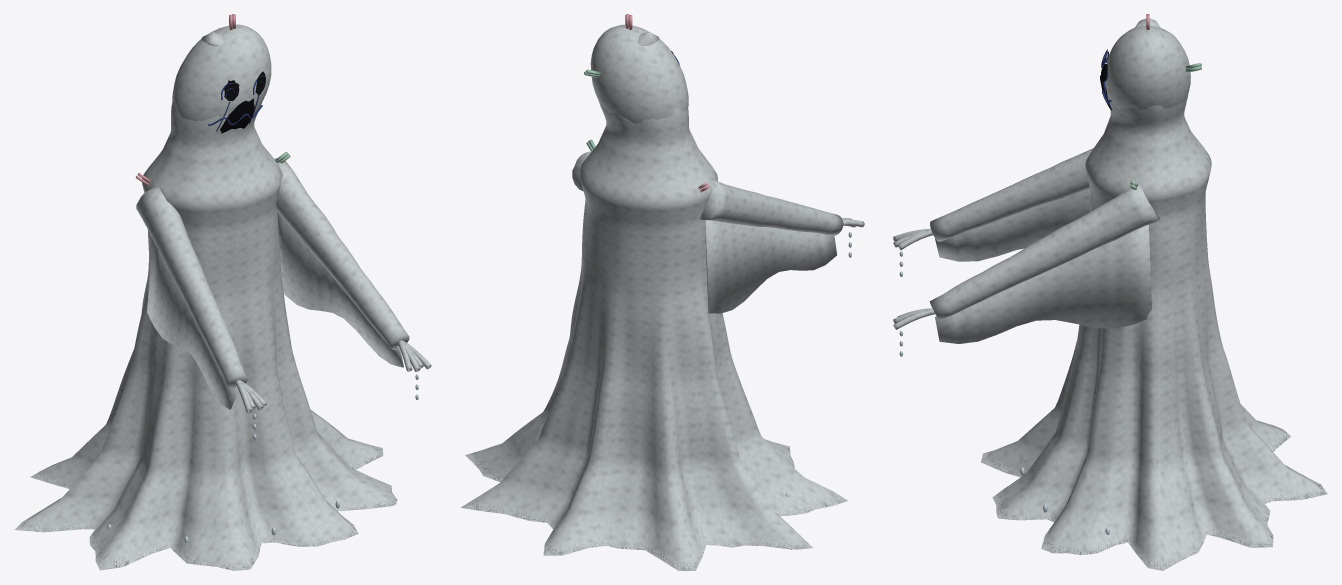
File: LeDrap.glb
The picture shows the model from 3 angles, left to right: view 1: azimuth 30°, elevation 25°; view 2: azimuth 150°, elevation 25°; view 3: azimuth 270°, elevation 25°; orthographic projection.
Visible parts, largest first — view 1: Drap, Bras, Tete_Tissu, Visage_Cri; view 2: Drap, Bras, Tete_Tissu; view 3: Drap, Bras, Tete_Tissu.
Part boxes in pixels (left/top/right/bottom): Drap: left=15, top=31, right=397, bottom=570; Bras: left=136, top=158, right=431, bottom=412; Tete_Tissu: left=172, top=24, right=271, bottom=121; Visage_Cri: left=220, top=71, right=265, bottom=133; Drap: left=461, top=31, right=847, bottom=570; Bras: left=572, top=151, right=864, bottom=313; Tete_Tissu: left=590, top=24, right=688, bottom=123; Drap: left=981, top=18, right=1327, bottom=570; Bras: left=893, top=148, right=1159, bottom=343; Tete_Tissu: left=1105, top=26, right=1190, bottom=110.
Bounding box in the file's own units: 1.86 × 2.37 × 1.94.
6 materials, 3 textured.
